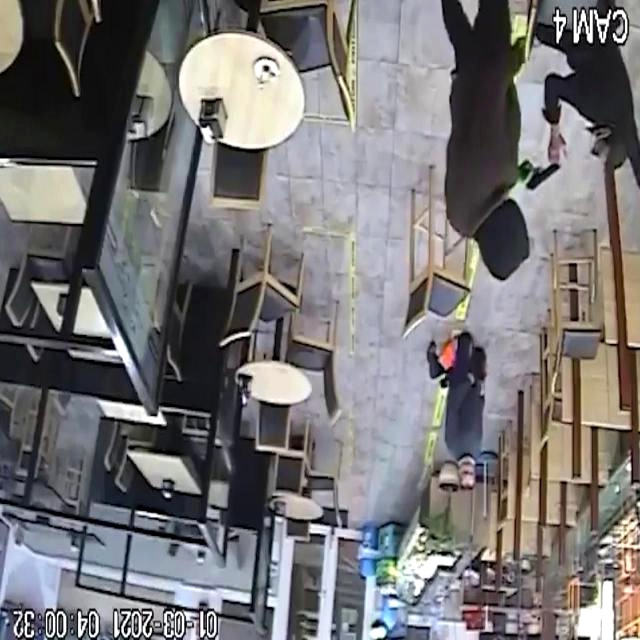gun: (512, 142, 575, 205)
